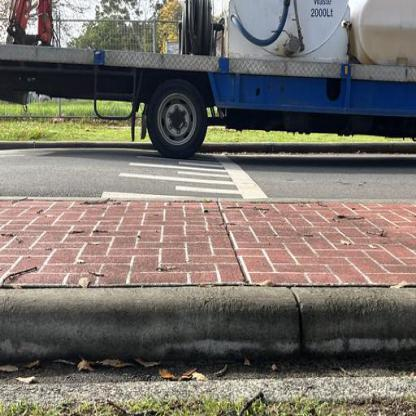Tire: (146, 78, 208, 160)
